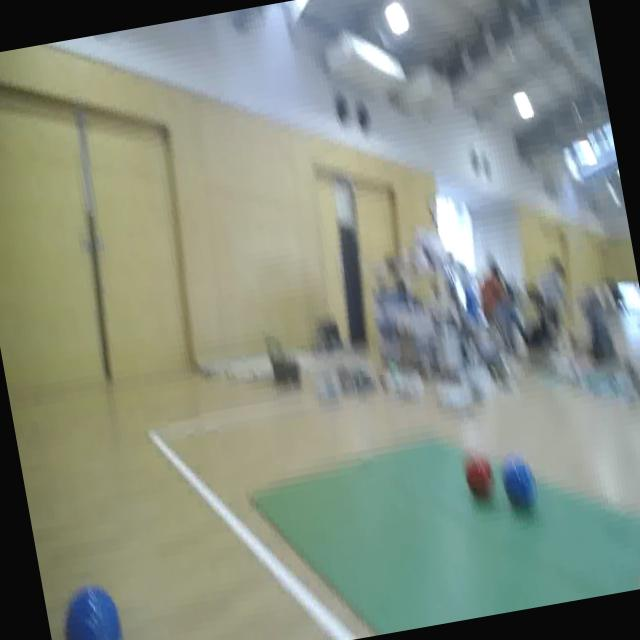blue_ball: (51, 575, 131, 640), (494, 445, 540, 516)
red_ball: (456, 448, 499, 503)
